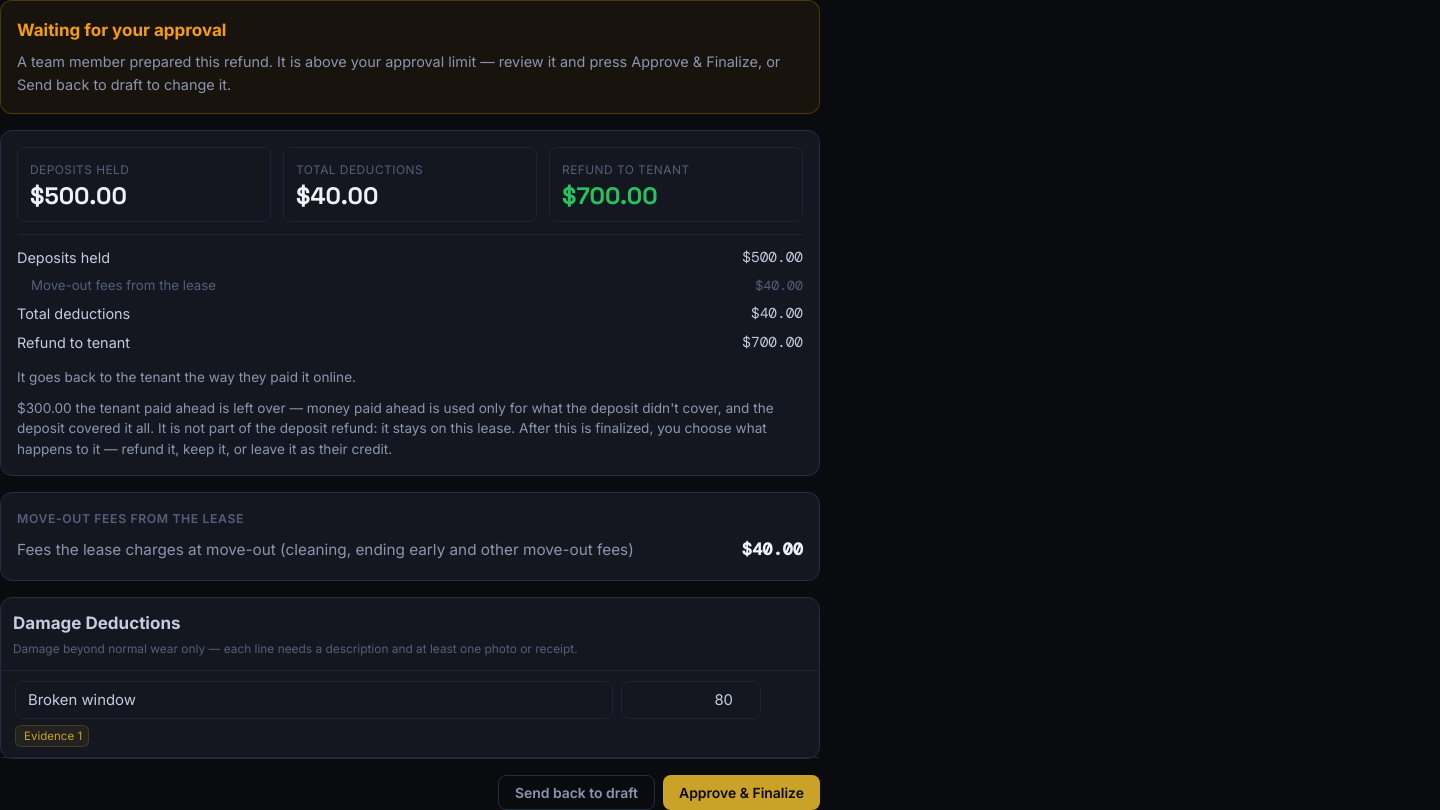
Scenario: Deposit return: the server's figures, never the page's own sum › a return waiting for approval: the landlord approves it as staff sent it — nothing re-saved, lines locked
(page scrolled)
Expected: the field is disabled, [15,681,613,719]
Step 1. Click the button "Approve & Finalize" → (742, 792), box [663,775,820,809]
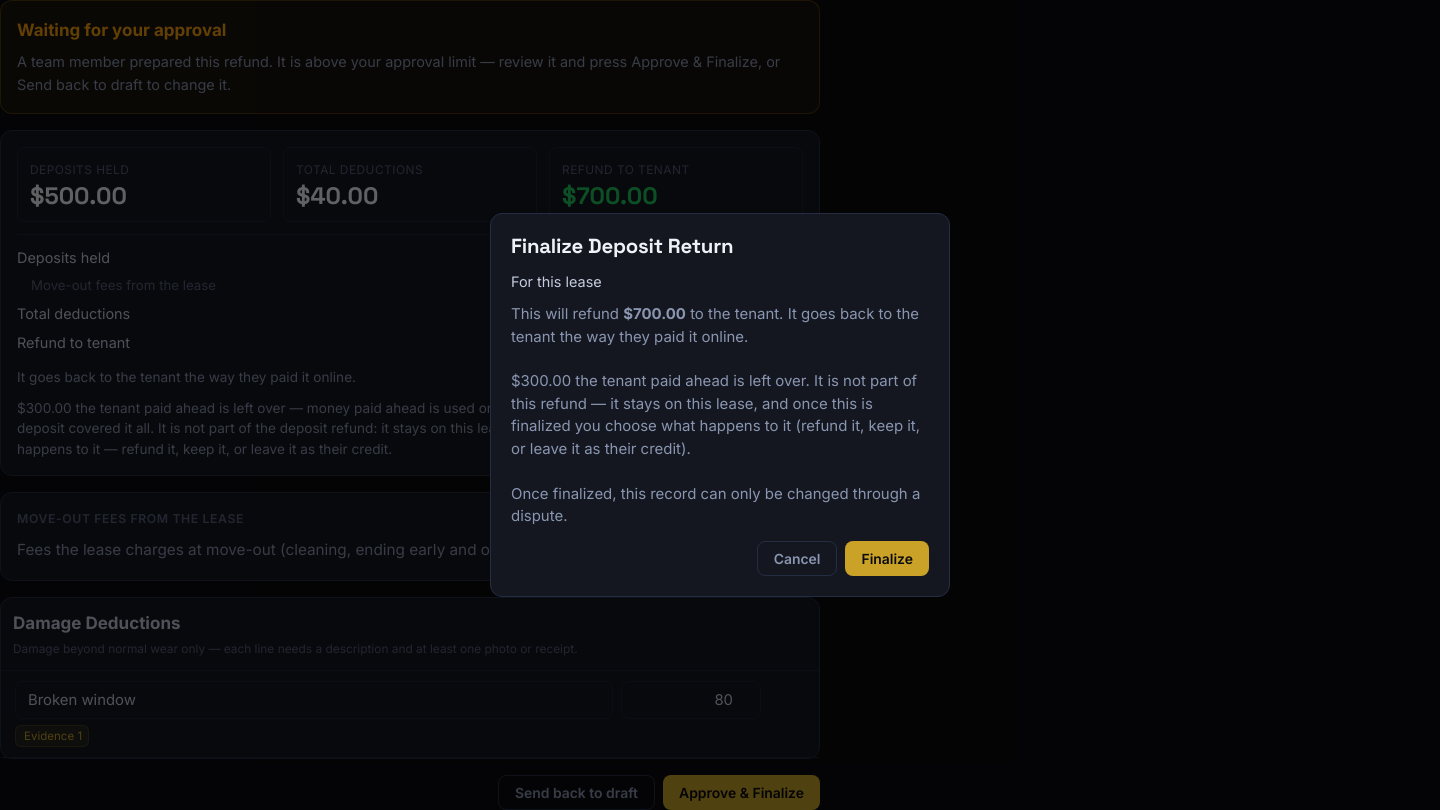
Now the dialog shows "$700.00", box [623,305,686,323]
